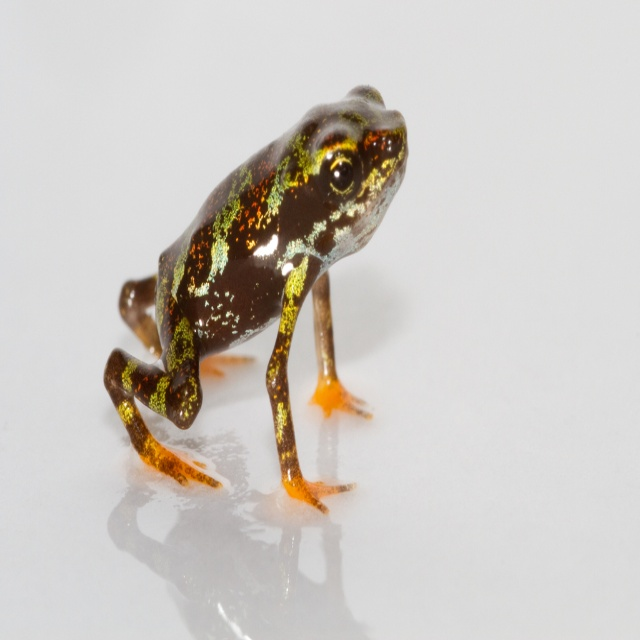Frog: (99, 82, 408, 516)
